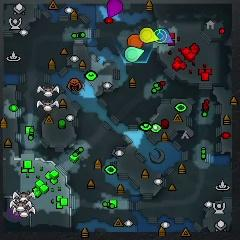p1: (157, 28, 173, 45)
p2: (125, 47, 145, 62)
p3: (107, 0, 123, 17)
p4: (140, 28, 159, 43)
p5: (127, 34, 143, 49)
